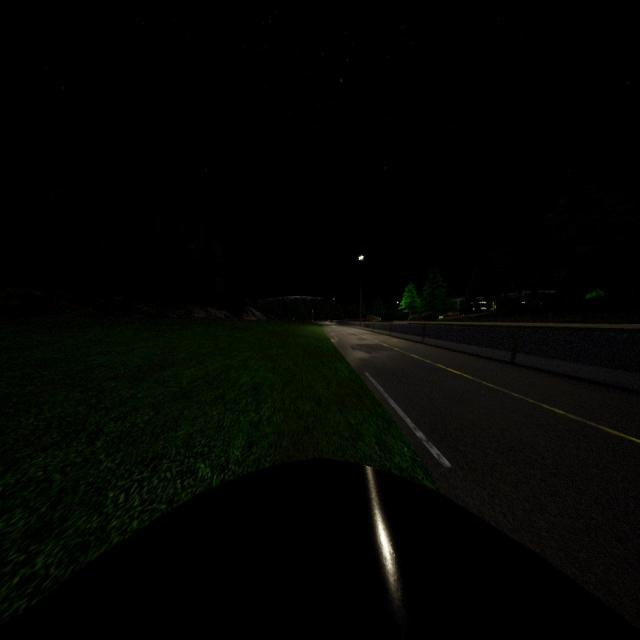Vehicle: (0, 465, 640, 640)
